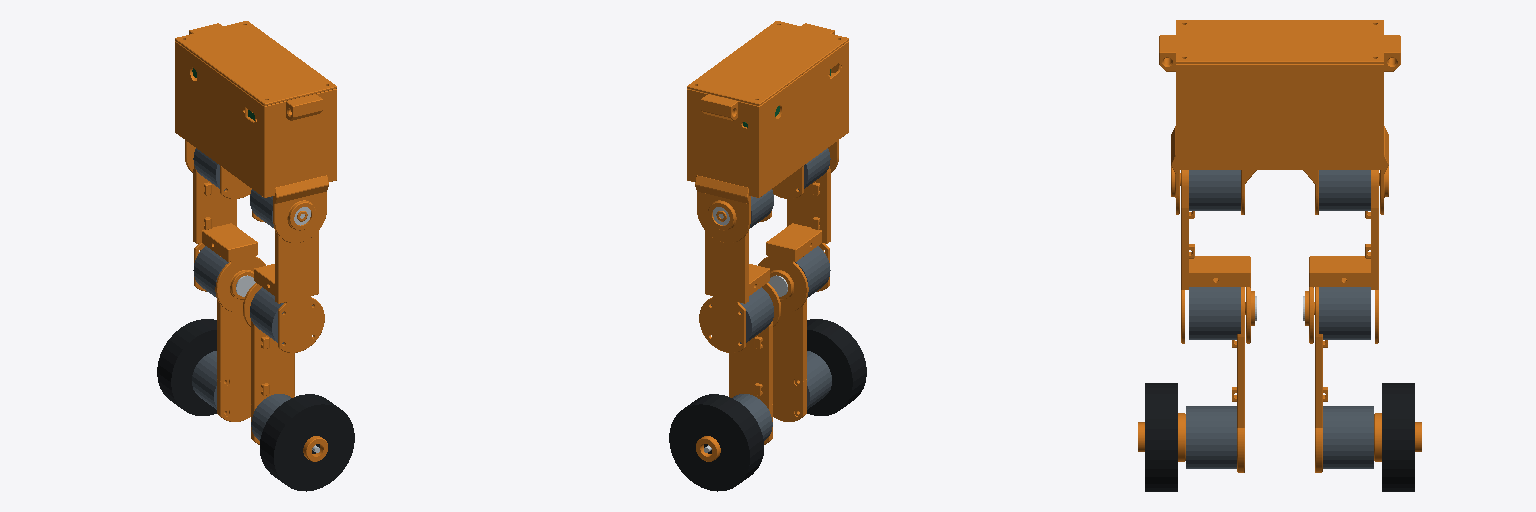
robot.urdf — wheeled_biped:
<?xml version="1.0"?>
<!--
  GENERATED by simulation/build_urdf.py. Do not edit this file: edit the CAD,
  or edit simulation/robot.py, and regenerate.

  The compact torque-controlled WHEELED biped – six DM-J3507 actuators, hip
  pitch and knee and a driven wheel on each leg, and no hip roll at all. The
  eight-motor walking robot is a different machine and is not described here.

  FRAME. +X forward, +Y left, +Z up, the ROS convention. The CAD is drawn with
  +Y forward and +X to the robot's right, so everything here has been turned a
  quarter turn from the frame the CAD and the mesh files use.

  BASE. base_link's origin is the torso's centre, 0.3185 m above the
  ground in the neutral standing pose. The robot stands 0.363 m tall and its
  wheels are 0.1699 m apart at the contact patch.

  JOINT SIGNS. Both leg joints are positive in FLEXION, matching the angles in
  cad/poses.py, so a pose read off one of those scenes
  can be commanded here unchanged. Hip flexion swings the thigh forward; knee
  flexion folds the shin back under it; and because those are opposite senses
  in the sagittal plane, the two joints carry opposite axis vectors. A positive
  wheel angle rolls the robot forward.

  ACTUATOR. DAMIAO DM-J3507-2EC, 7:1. The effort limits below are the
  3.0 Nm PEAK. The 0.8 Nm continuous rating is thermal rather than a
  hard ceiling, so it cannot be expressed as a URDF limit; it is a cost term in
  the Isaac Lab config instead.

  WHAT IS DRAWN. Everything the robot is made of, not just the printed parts.
  The printed pieces are their exported meshes, as they would be printed with
  their arrises broken at 0.5 mm; the actuators, wheels,
  bearings, boards and power entry are the primitives simulation/robot.py gives
  them, and each of those primitives is the part's real envelope – it is the
  SAME solid its mass and inertia were computed from, so what you see is what
  is being integrated. Two are approximations and say so where they appear: the
  wheel's urethane is an annulus drawn as a full cylinder, because a URDF has
  no tube, and the wiring has mass but no body and so is not drawn at all.

  WHAT IS NOT MEASURED. The wheels have never been weighed, the capacitor bank
  has never been sized, the actuator's velocity limit and rotor inertia have
  never been recorded, and hip pitch has no established travel. Run
  simulation/check_model.py for the current tally of what is measured and what
  is not.
-->
<robot name="wheeled_biped">

  <!-- Colours are the CAD's own, read out of cad/parameters.py and cad/electronics.py by cad.dimensions.colors, so a part is the same colour here as it is in the CAD viewer. -->
  <material name="bearingSteel"><color rgba="0.788235294 0.815686275 0.835294118 1"/></material>
  <material name="cellGrey"><color rgba="0.290196078 0.309803922 0.341176471 1"/></material>
  <material name="motorGrey"><color rgba="0.349019608 0.388235294 0.423529412 1"/></material>
  <material name="pcbGreen"><color rgba="0.109803922 0.419607843 0.258823529 1"/></material>
  <material name="printedOrange"><color rgba="0.850980392 0.509803922 0.168627451 1"/></material>
  <material name="sensorBlue"><color rgba="0.164705882 0.658823529 0.847058824 1"/></material>
  <material name="soleBlack"><color rgba="0.145098039 0.156862745 0.168627451 1"/></material>

  <link name="base_link">
    <inertial>
      <origin xyz="0.000145581392 0.00392955683 -0.0274809075" rpy="0 0 0"/>
      <mass value="1.044633"/>
      <inertia ixx="3.860420938e-03" ixy="1.250005743e-06" ixz="-5.633103152e-07"
               iyy="1.798331956e-03" iyz="-5.460764158e-05" izz="2.664613392e-03"/>
    </inertial>
    <!-- pelvis shell, clevises and cover bosses — 217.0 g, weighed: cad/torso.py:pelvisShell, twenty-two bodies -->
    <visual name="pelvis_shell__clevises_and_cover_bosses">
      <origin xyz="0 0 0" rpy="0 0 -1.57079633"/>
      <geometry>
        <mesh filename="meshes/pelvis-shell.stl" scale="0.001 0.001 0.001"/>
      </geometry>
      <material name="printedOrange"/>
    </visual>
    <!-- torso cover — 46.6 g, measured: cad/torso.py:torsoCover -->
    <visual name="torso_cover">
      <origin xyz="0 0 0" rpy="0 0 -1.57079633"/>
      <geometry>
        <mesh filename="meshes/torso-cover.stl" scale="0.001 0.001 0.001"/>
      </geometry>
      <material name="printedOrange"/>
    </visual>
    <!-- electronics deck — 25.5 g, measured: cad/deck.py:electronicsDeck, plate and four SBC posts -->
    <visual name="electronics_deck">
      <origin xyz="0 0 0" rpy="0 0 -1.57079633"/>
      <geometry>
        <mesh filename="meshes/electronics-deck.stl" scale="0.001 0.001 0.001"/>
      </geometry>
      <material name="printedOrange"/>
    </visual>
    <!-- hip pitch actuator, right — 165.0 g, weighed: DM-J3507-2EC, 46 dia x 37.9; 165 g weighed 2026-11-02, the manual says about 150 -->
    <visual name="hip_pitch_actuator__right">
      <origin xyz="0 -0.048 -0.0685" rpy="1.57079633 0 0"/>
      <geometry>
        <cylinder radius="0.023000" length="0.037900"/>
      </geometry>
      <material name="motorGrey"/>
    </visual>
    <!-- hip pitch bearing, right — 5.0 g, bom: 6800-2RS at 5.0 g, docs/BOM.md section 9 -->
    <visual name="hip_pitch_bearing__right">
      <origin xyz="0 -0.07645 -0.0685" rpy="1.57079633 0 0"/>
      <geometry>
        <cylinder radius="0.009500" length="0.005000"/>
      </geometry>
      <material name="bearingSteel"/>
    </visual>
    <!-- hip pitch actuator, left — 165.0 g, weighed: DM-J3507-2EC, 46 dia x 37.9; 165 g weighed 2026-11-02, the manual says about 150 -->
    <visual name="hip_pitch_actuator__left">
      <origin xyz="0 0.048 -0.0685" rpy="1.57079633 0 0"/>
      <geometry>
        <cylinder radius="0.023000" length="0.037900"/>
      </geometry>
      <material name="motorGrey"/>
    </visual>
    <!-- hip pitch bearing, left — 5.0 g, bom: 6800-2RS at 5.0 g, docs/BOM.md section 9 -->
    <visual name="hip_pitch_bearing__left">
      <origin xyz="0 0.07645 -0.0685" rpy="1.57079633 0 0"/>
      <geometry>
        <cylinder radius="0.009500" length="0.005000"/>
      </geometry>
      <material name="bearingSteel"/>
    </visual>
    <!-- battery — 172.0 g, weighed: two Bonka 3S 1000 mAh LiPo packs in series, 86 g each, weighed 2026-10-05 -->
    <visual name="battery">
      <origin xyz="0 0.03355 -0.013" rpy="0 0 0"/>
      <geometry>
        <box size="0.054 0.078 0.039"/>
      </geometry>
      <material name="cellGrey"/>
    </visual>
    <!-- SBC — 36.9 g, assumption: Raspberry-Pi-4-class board, 46 g published -->
    <visual name="sbc">
      <origin xyz="0 0 0.0321" rpy="0 0 0"/>
      <geometry>
        <box size="0.058 0.085 0.016"/>
      </geometry>
      <material name="pcbGreen"/>
    </visual>
    <!-- controller carrier — 20.5 g, assumption: STM32G474 core board, two CAN-FD transceivers, carrier and header -->
    <visual name="controller_carrier">
      <origin xyz="0 0.00255 0.0155" rpy="0 0 0"/>
      <geometry>
        <box size="0.046 0.14 0.012"/>
      </geometry>
      <material name="pcbGreen"/>
    </visual>
    <!-- IMU — 2.5 g, assumption: BNO085 nano breakout -->
    <visual name="imu">
      <origin xyz="0.005 -0.038 0.003185" rpy="0 0 0"/>
      <geometry>
        <box size="0.01 0.0105 0.00563"/>
      </geometry>
      <material name="sensorBlue"/>
    </visual>
    <!-- battery management system — 40.0 g, weighed: Daly 6S 24V 20A on the cell taps, wired charge-only. 40 g weighed, at the vendor's own 58 x 33 x 8.2 -->
    <visual name="battery_management_system">
      <origin xyz="0 0.03555 -0.016" rpy="0 0 0"/>
      <geometry>
        <box size="0.0082 0.058 0.033"/>
      </geometry>
      <material name="pcbGreen"/>
    </visual>
    <!-- power switch board — 30.1 g, estimate: fuse, the four-FET on/off and low-battery switch, the seven output headers and its screws, on the posts. Provisional, never weighed -->
    <visual name="power_switch_board">
      <origin xyz="0 -0.04655 -0.013" rpy="0 0 0"/>
      <geometry>
        <box size="0.054 0.052 0.039"/>
      </geometry>
      <material name="pcbGreen"/>
    </visual>
    <collision>
      <origin xyz="0 0 0" rpy="0 0 0"/>
      <geometry>
        <box size="0.072 0.1539 0.089"/>
      </geometry>
    </collision>
    <collision>
      <origin xyz="0 -0.048 -0.0685" rpy="1.57079633 0 0"/>
      <geometry>
        <cylinder radius="0.023000" length="0.037900"/>
      </geometry>
    </collision>
    <collision>
      <origin xyz="0 0.048 -0.0685" rpy="1.57079633 0 0"/>
      <geometry>
        <cylinder radius="0.023000" length="0.037900"/>
      </geometry>
    </collision>
  </link>

  <link name="thigh_right">
    <inertial>
      <origin xyz="3.11115987e-05 -0.00160719346 -0.0955884822" rpy="0 0 0"/>
      <mass value="0.221560"/>
      <inertia ixx="2.139694387e-04" ixy="1.746119961e-07" ixz="2.772177692e-07"
               iyy="1.961849580e-04" iyz="3.855983634e-05" izz="7.198751728e-05"/>
    </inertial>
    <!-- thigh limb plate, right — 40.0 g, weighed: cad/thigh.py, 105 mm, seven bodies, clevis at the knee -->
    <visual name="thigh_limb_plate__right">
      <origin xyz="0 0 -0.0525" rpy="0 0 -1.57079633"/>
      <geometry>
        <mesh filename="meshes/thigh-105-unmirrored.stl" scale="0.001 0.001 0.001"/>
      </geometry>
      <material name="printedOrange"/>
    </visual>
    <!-- knee actuator, right — 165.0 g, weighed: held by the thigh's stator plate; drives the shin -->
    <visual name="knee_actuator__right">
      <origin xyz="0 0 -0.105" rpy="1.57079633 0 0"/>
      <geometry>
        <cylinder radius="0.023000" length="0.037900"/>
      </geometry>
      <material name="motorGrey"/>
    </visual>
    <!-- knee bearing, right — 5.0 g, bom: 6800-2RS at 5.0 g, bonded into the knee clevis's far cheek -->
    <visual name="knee_bearing__right">
      <origin xyz="0 0.02845 -0.105" rpy="1.57079633 0 0"/>
      <geometry>
        <cylinder radius="0.009500" length="0.005000"/>
      </geometry>
      <material name="bearingSteel"/>
    </visual>
    <!-- hip pitch journal sleeve, right — 0.4 g, measured: Ø10 x Ø5.3 x 7 printed tube, the far bearing's journal -->
    <visual name="hip_pitch_journal_sleeve__right">
      <origin xyz="0 0 0" rpy="0 0 -1.57079633"/>
      <geometry>
        <mesh filename="meshes/journal-sleeve.stl" scale="0.001 0.001 0.001"/>
      </geometry>
      <material name="printedOrange"/>
    </visual>
    <collision>
      <origin xyz="0 0.00375 -0.0525" rpy="0 0 0"/>
      <geometry>
        <box size="0.04 0.0574 0.105"/>
      </geometry>
    </collision>
  </link>

  <link name="shin_right">
    <inertial>
      <origin xyz="7.48709344e-05 0.00432966941 -0.0952349337" rpy="0 0 0"/>
      <mass value="0.213560"/>
      <inertia ixx="2.167516037e-04" ixy="-3.038161542e-07" ixz="3.796477463e-07"
               iyy="2.067145280e-04" iyz="-3.935785730e-05" izz="6.366294174e-05"/>
    </inertial>
    <!-- shin limb plate, right — 37.0 g, weighed: cad/shin.py, 105 mm, seven bodies, plate at the wheel -->
    <visual name="shin_limb_plate__right">
      <origin xyz="0 0 -0.0525" rpy="0 0 -1.57079633"/>
      <geometry>
        <mesh filename="meshes/limb-105-mirrored.stl" scale="0.001 0.001 0.001"/>
      </geometry>
      <material name="printedOrange"/>
    </visual>
    <!-- wheel actuator, right — 165.0 g, weighed: held by the shin's stator plate; drives the wheel -->
    <visual name="wheel_actuator__right">
      <origin xyz="0 0 -0.105" rpy="1.57079633 0 0"/>
      <geometry>
        <cylinder radius="0.023000" length="0.037900"/>
      </geometry>
      <material name="motorGrey"/>
    </visual>
    <!-- knee journal sleeve, right — 0.4 g, measured: Ø10 x Ø5.3 x 7 printed tube, the far bearing's journal -->
    <visual name="knee_journal_sleeve__right">
      <origin xyz="0 0.0569 0" rpy="0 0 -1.57079633"/>
      <geometry>
        <mesh filename="meshes/journal-sleeve.stl" scale="0.001 0.001 0.001"/>
      </geometry>
      <material name="printedOrange"/>
    </visual>
    <collision>
      <origin xyz="0 0 -0.0525" rpy="0 0 0"/>
      <geometry>
        <box size="0.04 0.0439 0.105"/>
      </geometry>
    </collision>
  </link>

  <link name="wheel_right">
    <inertial>
      <origin xyz="-6.04821369e-12 -0.0364390191 -3.4835384e-12" rpy="0 0 0"/>
      <mass value="0.093634"/>
      <inertia ixx="4.516010344e-05" ixy="4.788619048e-15" ixz="2.632757153e-15"
               iyy="7.816409241e-05" iyz="2.772459274e-15" izz="4.516010311e-05"/>
    </inertial>
    <!-- wheel adapter, right — 6.5 g, measured: cad/wheel_adapter.py, three bodies, joint centre at its own origin -->
    <visual name="wheel_adapter__right">
      <origin xyz="0 0 0" rpy="0 0 -1.57079633"/>
      <geometry>
        <mesh filename="meshes/wheel-adapter.stl" scale="0.001 0.001 0.001"/>
      </geometry>
      <material name="printedOrange"/>
    </visual>
    <!-- skate wheel, right — 73.0 g, weighed: 73 g weighed 2026-11-02, the bearings out. Its mass is measured now; how it divides between hub and tread is not, so its spin inertia is still an assumption. -->
    <visual name="skate_wheel__right">
      <origin xyz="0 -0.03695 0" rpy="1.57079633 0 0"/>
      <geometry>
        <cylinder radius="0.040000" length="0.024000"/>
      </geometry>
      <material name="soleBlack"/>
    </visual>
    <!-- wheel cap, right — 5.7 g, measured: cad/wheel_cap.py, the Ø22 cup in the hub's outboard seat -->
    <visual name="wheel_cap__right">
      <origin xyz="0 0 0" rpy="0 0 -1.57079633"/>
      <geometry>
        <mesh filename="meshes/wheel-cap.stl" scale="0.001 0.001 0.001"/>
      </geometry>
      <material name="printedOrange"/>
    </visual>
    <!-- wheel clamp, right — 8.5 g, bom: M5 x 30 cap screw, plain M5 washer and M5 x 8 heat-set insert, from their catalogue dimensions; the budget's 17 g for the pair -->
    <visual name="wheel_clamp__right">
      <origin xyz="0 -0.03695 0" rpy="1.57079633 0 0"/>
      <geometry>
        <cylinder radius="0.002500" length="0.035000"/>
      </geometry>
      <material name="bearingSteel"/>
    </visual>
    <collision>
      <origin xyz="0 -0.03695 0" rpy="1.57079633 0 0"/>
      <geometry>
        <cylinder radius="0.040000" length="0.024000"/>
      </geometry>
    </collision>
  </link>

  <link name="thigh_left">
    <inertial>
      <origin xyz="3.11222922e-05 0.00160720584 -0.0955884979" rpy="0 0 0"/>
      <mass value="0.221560"/>
      <inertia ixx="2.139690230e-04" ixy="-1.746635473e-07" ixz="2.771816196e-07"
               iyy="1.961845367e-04" iyz="-3.855977941e-05" izz="7.198753001e-05"/>
    </inertial>
    <!-- thigh limb plate, left — 40.0 g, weighed: cad/thigh.py, 105 mm, seven bodies, clevis at the knee -->
    <visual name="thigh_limb_plate__left">
      <origin xyz="0 0 -0.0525" rpy="0 0 -1.57079633"/>
      <geometry>
        <mesh filename="meshes/thigh-105-mirrored.stl" scale="0.001 0.001 0.001"/>
      </geometry>
      <material name="printedOrange"/>
    </visual>
    <!-- knee actuator, left — 165.0 g, weighed: held by the thigh's stator plate; drives the shin -->
    <visual name="knee_actuator__left">
      <origin xyz="0 0 -0.105" rpy="1.57079633 0 0"/>
      <geometry>
        <cylinder radius="0.023000" length="0.037900"/>
      </geometry>
      <material name="motorGrey"/>
    </visual>
    <!-- knee bearing, left — 5.0 g, bom: 6800-2RS at 5.0 g, bonded into the knee clevis's far cheek -->
    <visual name="knee_bearing__left">
      <origin xyz="0 -0.02845 -0.105" rpy="1.57079633 0 0"/>
      <geometry>
        <cylinder radius="0.009500" length="0.005000"/>
      </geometry>
      <material name="bearingSteel"/>
    </visual>
    <!-- hip pitch journal sleeve, left — 0.4 g, measured: Ø10 x Ø5.3 x 7 printed tube, the far bearing's journal -->
    <visual name="hip_pitch_journal_sleeve__left">
      <origin xyz="0 0.0569 0" rpy="0 0 -1.57079633"/>
      <geometry>
        <mesh filename="meshes/journal-sleeve.stl" scale="0.001 0.001 0.001"/>
      </geometry>
      <material name="printedOrange"/>
    </visual>
    <collision>
      <origin xyz="0 -0.00375 -0.0525" rpy="0 0 0"/>
      <geometry>
        <box size="0.04 0.0574 0.105"/>
      </geometry>
    </collision>
  </link>

  <link name="shin_left">
    <inertial>
      <origin xyz="7.48709344e-05 -0.00432966941 -0.0952349337" rpy="0 0 0"/>
      <mass value="0.213560"/>
      <inertia ixx="2.167516037e-04" ixy="3.038161524e-07" ixz="3.796477464e-07"
               iyy="2.067145280e-04" iyz="3.935785736e-05" izz="6.366294177e-05"/>
    </inertial>
    <!-- shin limb plate, left — 37.0 g, weighed: cad/shin.py, 105 mm, seven bodies, plate at the wheel -->
    <visual name="shin_limb_plate__left">
      <origin xyz="0 0 -0.0525" rpy="0 0 -1.57079633"/>
      <geometry>
        <mesh filename="meshes/limb-105-unmirrored.stl" scale="0.001 0.001 0.001"/>
      </geometry>
      <material name="printedOrange"/>
    </visual>
    <!-- wheel actuator, left — 165.0 g, weighed: held by the shin's stator plate; drives the wheel -->
    <visual name="wheel_actuator__left">
      <origin xyz="0 0 -0.105" rpy="1.57079633 0 0"/>
      <geometry>
        <cylinder radius="0.023000" length="0.037900"/>
      </geometry>
      <material name="motorGrey"/>
    </visual>
    <!-- knee journal sleeve, left — 0.4 g, measured: Ø10 x Ø5.3 x 7 printed tube, the far bearing's journal -->
    <visual name="knee_journal_sleeve__left">
      <origin xyz="0 0 0" rpy="0 0 -1.57079633"/>
      <geometry>
        <mesh filename="meshes/journal-sleeve.stl" scale="0.001 0.001 0.001"/>
      </geometry>
      <material name="printedOrange"/>
    </visual>
    <collision>
      <origin xyz="0 0 -0.0525" rpy="0 0 0"/>
      <geometry>
        <box size="0.04 0.0439 0.105"/>
      </geometry>
    </collision>
  </link>

  <link name="wheel_left">
    <inertial>
      <origin xyz="6.04821369e-12 0.0364390191 -3.4835384e-12" rpy="0 0 0"/>
      <mass value="0.093634"/>
      <inertia ixx="4.516010344e-05" ixy="4.788619048e-15" ixz="-2.632757153e-15"
               iyy="7.816409241e-05" iyz="-2.772459274e-15" izz="4.516010311e-05"/>
    </inertial>
    <!-- wheel adapter, left — 6.5 g, measured: cad/wheel_adapter.py, three bodies, joint centre at its own origin -->
    <visual name="wheel_adapter__left">
      <origin xyz="0 0 0" rpy="0 0 1.57079633"/>
      <geometry>
        <mesh filename="meshes/wheel-adapter.stl" scale="0.001 0.001 0.001"/>
      </geometry>
      <material name="printedOrange"/>
    </visual>
    <!-- skate wheel, left — 73.0 g, weighed: 73 g weighed 2026-11-02, the bearings out. Its mass is measured now; how it divides between hub and tread is not, so its spin inertia is still an assumption. -->
    <visual name="skate_wheel__left">
      <origin xyz="0 0.03695 0" rpy="1.57079633 0 0"/>
      <geometry>
        <cylinder radius="0.040000" length="0.024000"/>
      </geometry>
      <material name="soleBlack"/>
    </visual>
    <!-- wheel cap, left — 5.7 g, measured: cad/wheel_cap.py, the Ø22 cup in the hub's outboard seat -->
    <visual name="wheel_cap__left">
      <origin xyz="0 0 0" rpy="0 0 1.57079633"/>
      <geometry>
        <mesh filename="meshes/wheel-cap.stl" scale="0.001 0.001 0.001"/>
      </geometry>
      <material name="printedOrange"/>
    </visual>
    <!-- wheel clamp, left — 8.5 g, bom: M5 x 30 cap screw, plain M5 washer and M5 x 8 heat-set insert, from their catalogue dimensions; the budget's 17 g for the pair -->
    <visual name="wheel_clamp__left">
      <origin xyz="0 0.03695 0" rpy="1.57079633 0 0"/>
      <geometry>
        <cylinder radius="0.002500" length="0.035000"/>
      </geometry>
      <material name="bearingSteel"/>
    </visual>
    <collision>
      <origin xyz="0 0.03695 0" rpy="1.57079633 0 0"/>
      <geometry>
        <cylinder radius="0.040000" length="0.024000"/>
      </geometry>
    </collision>
  </link>

  <!-- PROVISIONAL TRAVEL. No swept clearance check has ever been run on hip pitch; the knee's stop is the only joint limit this project has established, and that one is measured. -->
  <joint name="hip_pitch_right" type="revolute">
    <parent link="base_link"/>
    <child link="thigh_right"/>
    <origin xyz="0 -0.048 -0.0685" rpy="0 0 0"/>
    <axis xyz="0 -1 0"/>
    <limit lower="-1.04719755" upper="1.04719755" effort="3.0" velocity="48.2"/>
    <dynamics damping="0.0" friction="0.0"/>
  </joint>
  <!-- The commissioning hard stop, read out of cad/poses.py. It is MEASURED now rather than inherited: the thigh's knee clevis puts a saddle back in the plane the shin sweeps, and the two touch at 103.0 deg. tools/gate_f.py holds the 1 mm. -->
  <joint name="knee_right" type="revolute">
    <parent link="thigh_right"/>
    <child link="shin_right"/>
    <origin xyz="0 -0.0027 -0.105" rpy="0 0 0"/>
    <axis xyz="0 1 0"/>
    <limit lower="0" upper="1.74532925" effort="3.0" velocity="48.2"/>
    <dynamics damping="0.0" friction="0.0"/>
  </joint>
  <!-- Direct drive; no reduction beyond the actuator's own 7:1. -->
  <joint name="wheel_drive_right" type="continuous">
    <parent link="shin_right"/>
    <child link="wheel_right"/>
    <origin xyz="0 0 -0.105" rpy="0 0 0"/>
    <axis xyz="0 1 0"/>
    <limit effort="3.0" velocity="48.2"/>
    <dynamics damping="0.0" friction="0.0"/>
  </joint>
  <!-- PROVISIONAL TRAVEL. No swept clearance check has ever been run on hip pitch; the knee's stop is the only joint limit this project has established, and that one is measured. -->
  <joint name="hip_pitch_left" type="revolute">
    <parent link="base_link"/>
    <child link="thigh_left"/>
    <origin xyz="0 0.048 -0.0685" rpy="0 0 0"/>
    <axis xyz="0 -1 0"/>
    <limit lower="-1.04719755" upper="1.04719755" effort="3.0" velocity="48.2"/>
    <dynamics damping="0.0" friction="0.0"/>
  </joint>
  <!-- The commissioning hard stop, read out of cad/poses.py. It is MEASURED now rather than inherited: the thigh's knee clevis puts a saddle back in the plane the shin sweeps, and the two touch at 103.0 deg. tools/gate_f.py holds the 1 mm. -->
  <joint name="knee_left" type="revolute">
    <parent link="thigh_left"/>
    <child link="shin_left"/>
    <origin xyz="0 0.0027 -0.105" rpy="0 0 0"/>
    <axis xyz="0 1 0"/>
    <limit lower="0" upper="1.74532925" effort="3.0" velocity="48.2"/>
    <dynamics damping="0.0" friction="0.0"/>
  </joint>
  <!-- Direct drive; no reduction beyond the actuator's own 7:1. -->
  <joint name="wheel_drive_left" type="continuous">
    <parent link="shin_left"/>
    <child link="wheel_left"/>
    <origin xyz="0 0 -0.105" rpy="0 0 0"/>
    <axis xyz="0 1 0"/>
    <limit effort="3.0" velocity="48.2"/>
    <dynamics damping="0.0" friction="0.0"/>
  </joint>

</robot>

--- Render facts (derived) ---
Views: 3 orthographic renders of the robot side by side, from view 1: azimuth 30°, elevation 25°; view 2: azimuth 150°, elevation 25°; view 3: azimuth 270°, elevation 25°.
Model wheeled_biped with 7 links and 6 joints (4 revolute, 2 continuous), rooted at base_link, posed every joint at zero.
Links seen in each view (by area): view 1: base_link, wheel_right, thigh_right, thigh_left, shin_left, wheel_left, shin_right; view 2: base_link, wheel_left, thigh_left, thigh_right, shin_right, wheel_right, shin_left; view 3: base_link, thigh_right, thigh_left, shin_right, shin_left, wheel_right, wheel_left.
Boxes of the visible links, box(x1,y1,x2,y2) form: base_link: box(175, 21, 336, 242); wheel_right: box(260, 394, 354, 491); thigh_right: box(243, 211, 324, 352); thigh_left: box(193, 166, 265, 311); shin_left: box(192, 300, 250, 421); wheel_left: box(157, 319, 216, 415); shin_right: box(251, 321, 294, 444); base_link: box(687, 21, 848, 242); wheel_left: box(669, 394, 763, 491); thigh_left: box(699, 211, 780, 352); thigh_right: box(758, 166, 830, 311); shin_right: box(773, 300, 831, 421); wheel_right: box(807, 319, 866, 415); shin_left: box(729, 321, 772, 444); base_link: box(1159, 20, 1400, 214); thigh_right: box(1180, 170, 1256, 343); thigh_left: box(1303, 170, 1379, 343); shin_right: box(1186, 287, 1245, 472); shin_left: box(1314, 287, 1373, 472); wheel_right: box(1138, 383, 1185, 491); wheel_left: box(1374, 383, 1421, 491).
Size in the robot's own frame: 0.08 by 0.2103 by 0.363 metres.
Meshes: 10 distinct files referenced, 15 mesh visuals loaded (10 binary STL).
